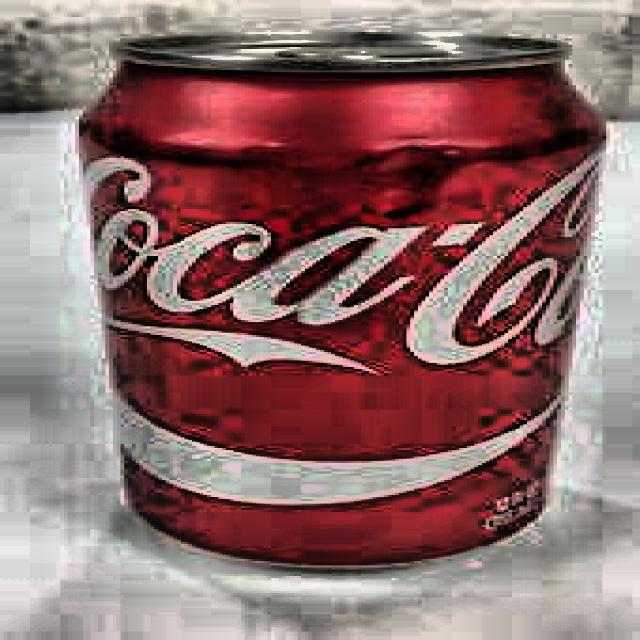Cans: (30, 19, 630, 583)
